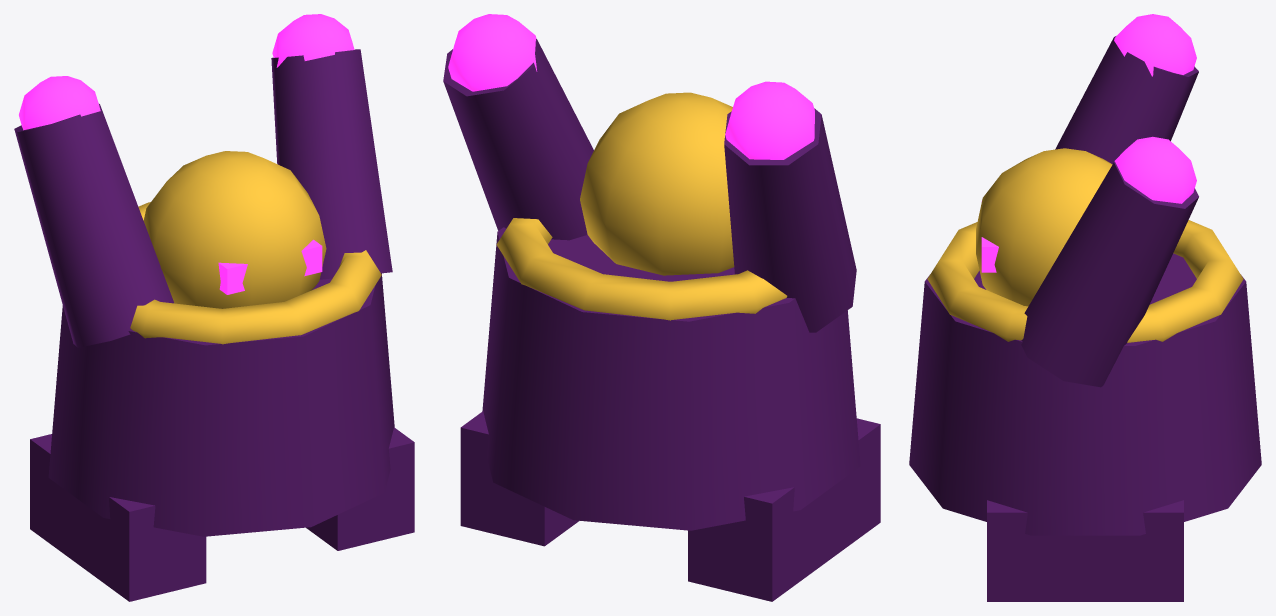
The model's file is enemy_bombardier.glb.
The picture shows the model from 3 angles, left to right: view 1: azimuth 30°, elevation 25°; view 2: azimuth 150°, elevation 25°; view 3: azimuth 270°, elevation 25°; orthographic projection. The views are drawn at different scales.
Visible parts, largest first — view 1: armor_body, mortar_l, dome_helm, mortar_r, tread_l, gold_collar, tread_r, mortar_glow_l, mortar_glow_r, visor_slit; view 2: armor_body, dome_helm, mortar_l, mortar_r, tread_l, gold_collar, tread_r, mortar_glow_l, mortar_glow_r; view 3: armor_body, mortar_r, tread_r, dome_helm, gold_collar, mortar_l, mortar_glow_r, mortar_glow_l, visor_slit.
Part boxes in pixels (box(x1,y1,x2,y2)): armor_body: box(48, 270, 394, 536); mortar_l: box(14, 104, 173, 347); dome_helm: box(143, 151, 326, 308); mortar_r: box(271, 49, 392, 279); tread_l: box(30, 434, 206, 601); gold_collar: box(130, 202, 381, 344); tread_r: box(306, 427, 414, 550); mortar_glow_l: box(19, 76, 100, 130); mortar_glow_r: box(272, 14, 354, 67); visor_slit: box(218, 239, 322, 294); armor_body: box(482, 227, 860, 530); dome_helm: box(580, 92, 734, 275); mortar_l: box(724, 108, 856, 332); mortar_r: box(443, 39, 593, 240); tread_l: box(688, 418, 880, 601); gold_collar: box(496, 218, 787, 320); tread_r: box(460, 411, 579, 546); mortar_glow_l: box(725, 81, 814, 159); mortar_glow_r: box(448, 14, 537, 91); armor_body: box(909, 253, 1261, 535); mortar_r: box(1021, 162, 1198, 387); tread_r: box(987, 500, 1183, 601); dome_helm: box(976, 148, 1112, 306); gold_collar: box(927, 220, 1243, 342); mortar_l: box(1055, 36, 1198, 164); mortar_glow_r: box(1114, 136, 1196, 203); mortar_glow_l: box(1114, 14, 1196, 76); visor_slit: box(981, 201, 998, 272).
Bounding box in the file's own units: 1.5 × 1.93 × 1.36.
